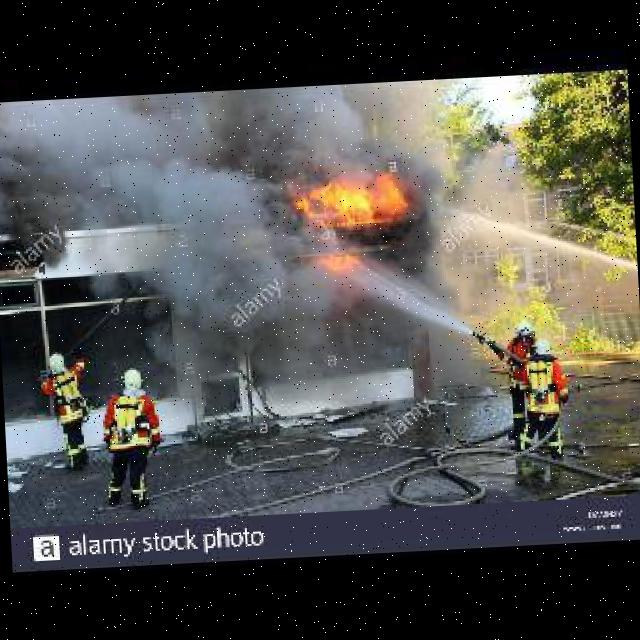fire: (264, 160, 418, 244)
